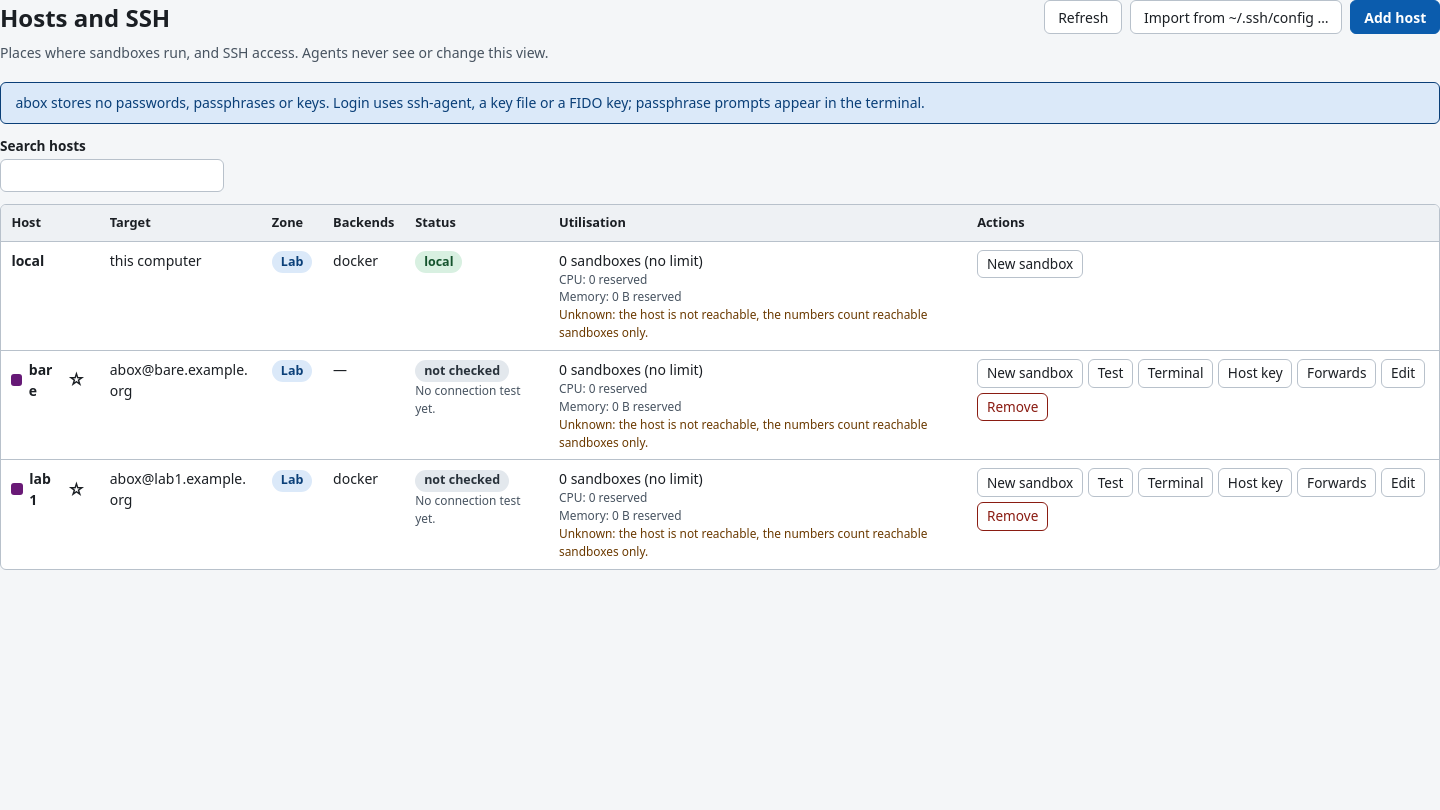
Test: Hosts view: new sandbox on a host › local means this computer: the host field stays empty
Click the button "New sandbox" in the row of "this computer" at (1030, 264), box [977,250,1083,278]
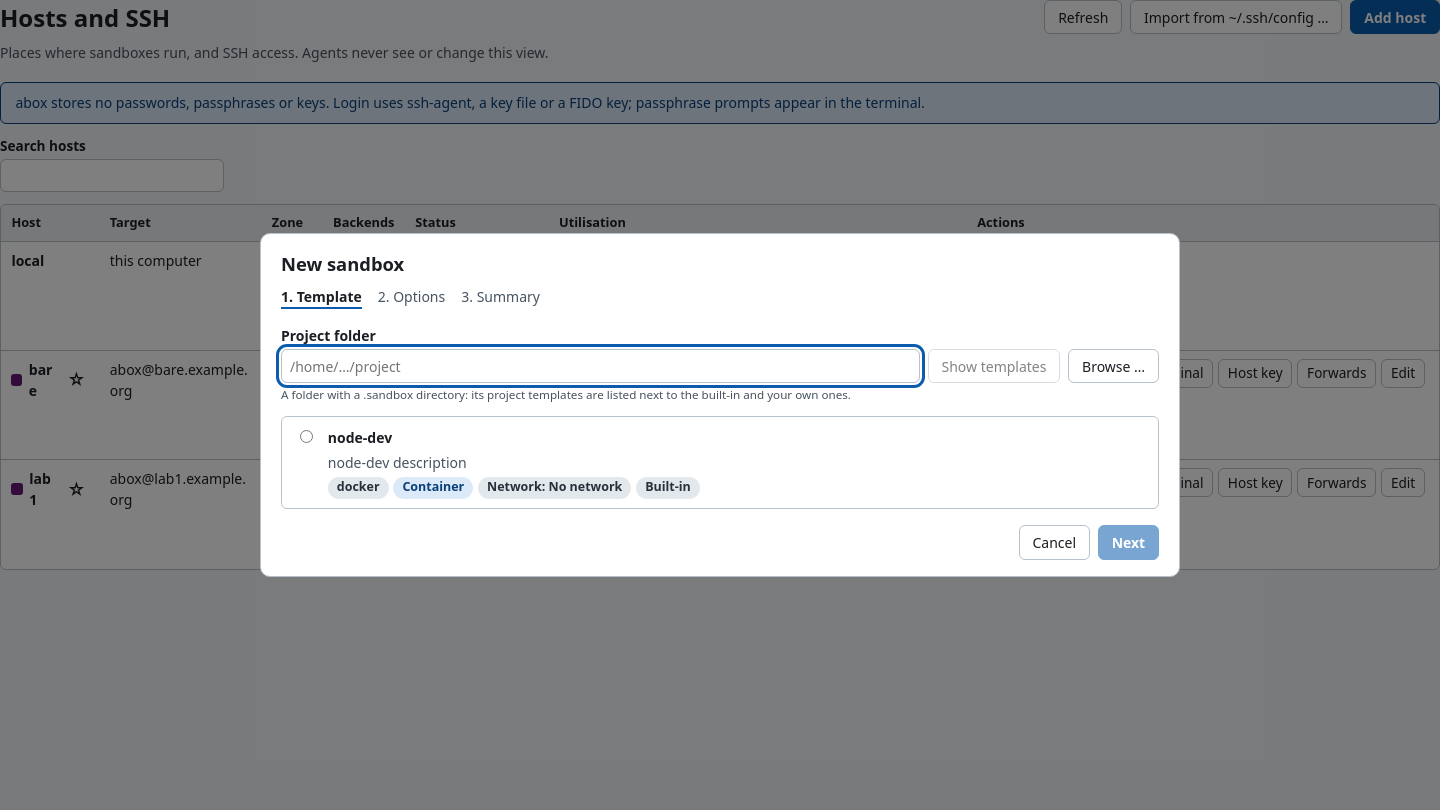
Result: the dialog "New sandbox" is shown at [260,233,1180,577]
Click the radio button labelled "node-dev" at (306, 436), box [300,430,313,443]
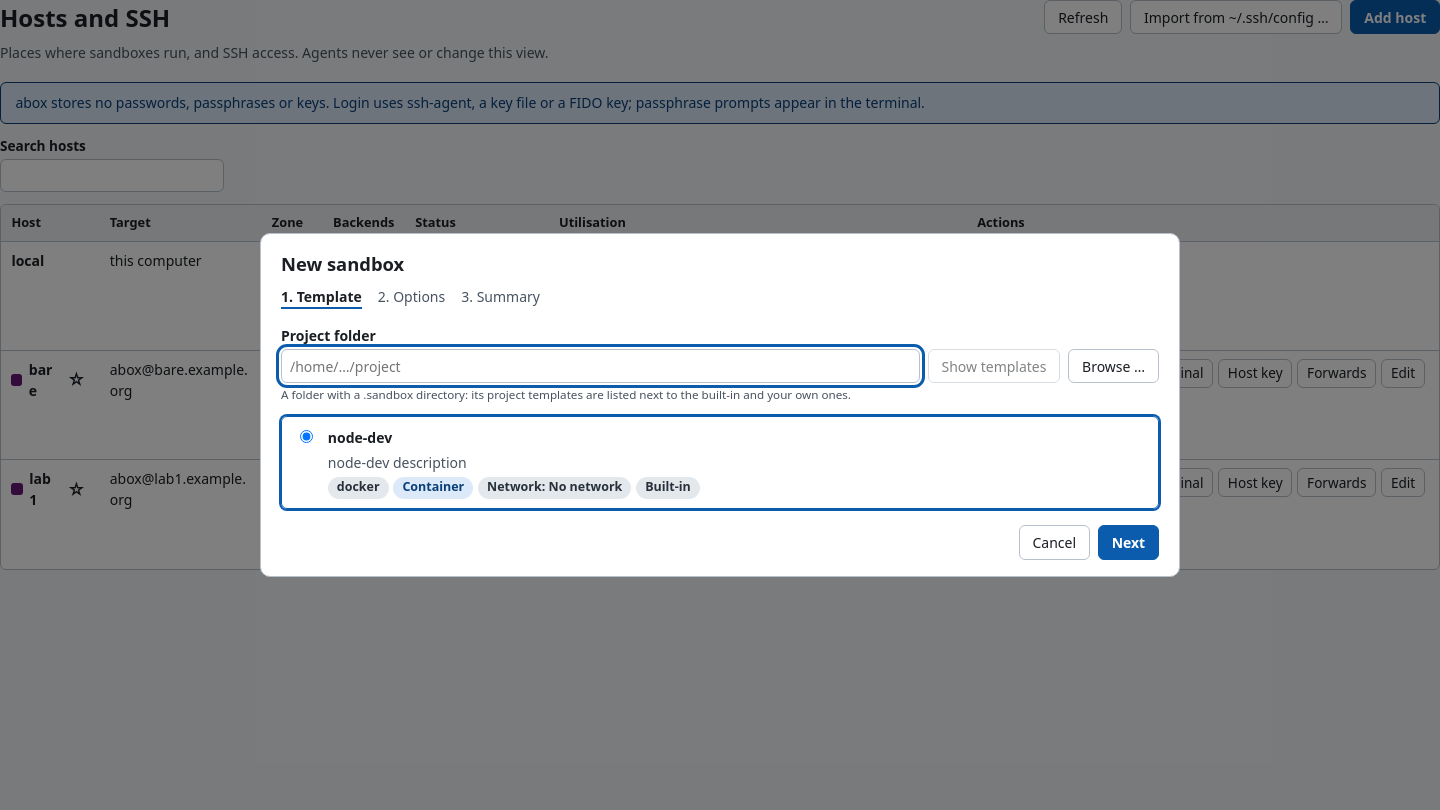
Click the button "Next" at (1128, 543), box [1098,526,1159,560]
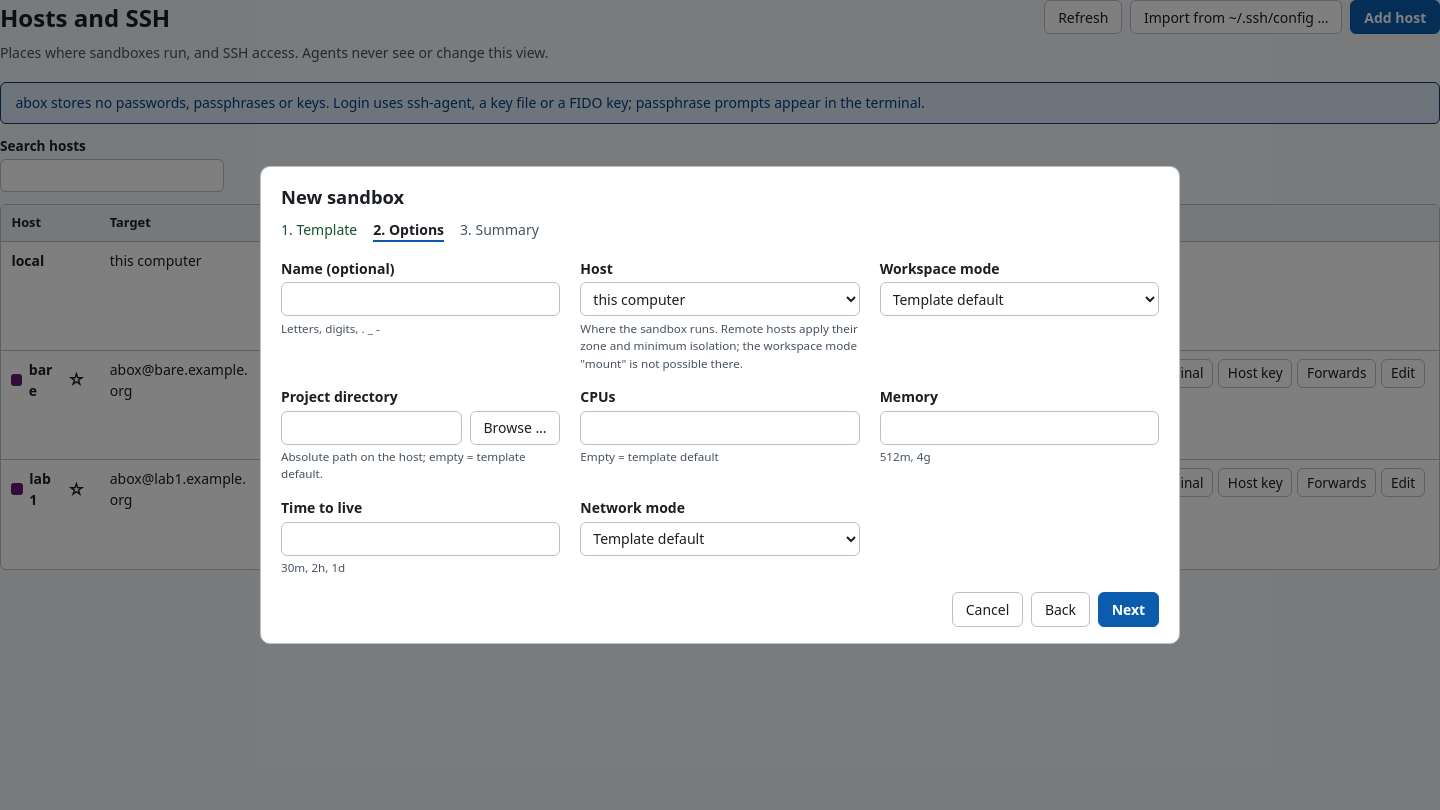
Result: the dropdown labelled "Host" shows "this computer" at [580,282,860,316]
